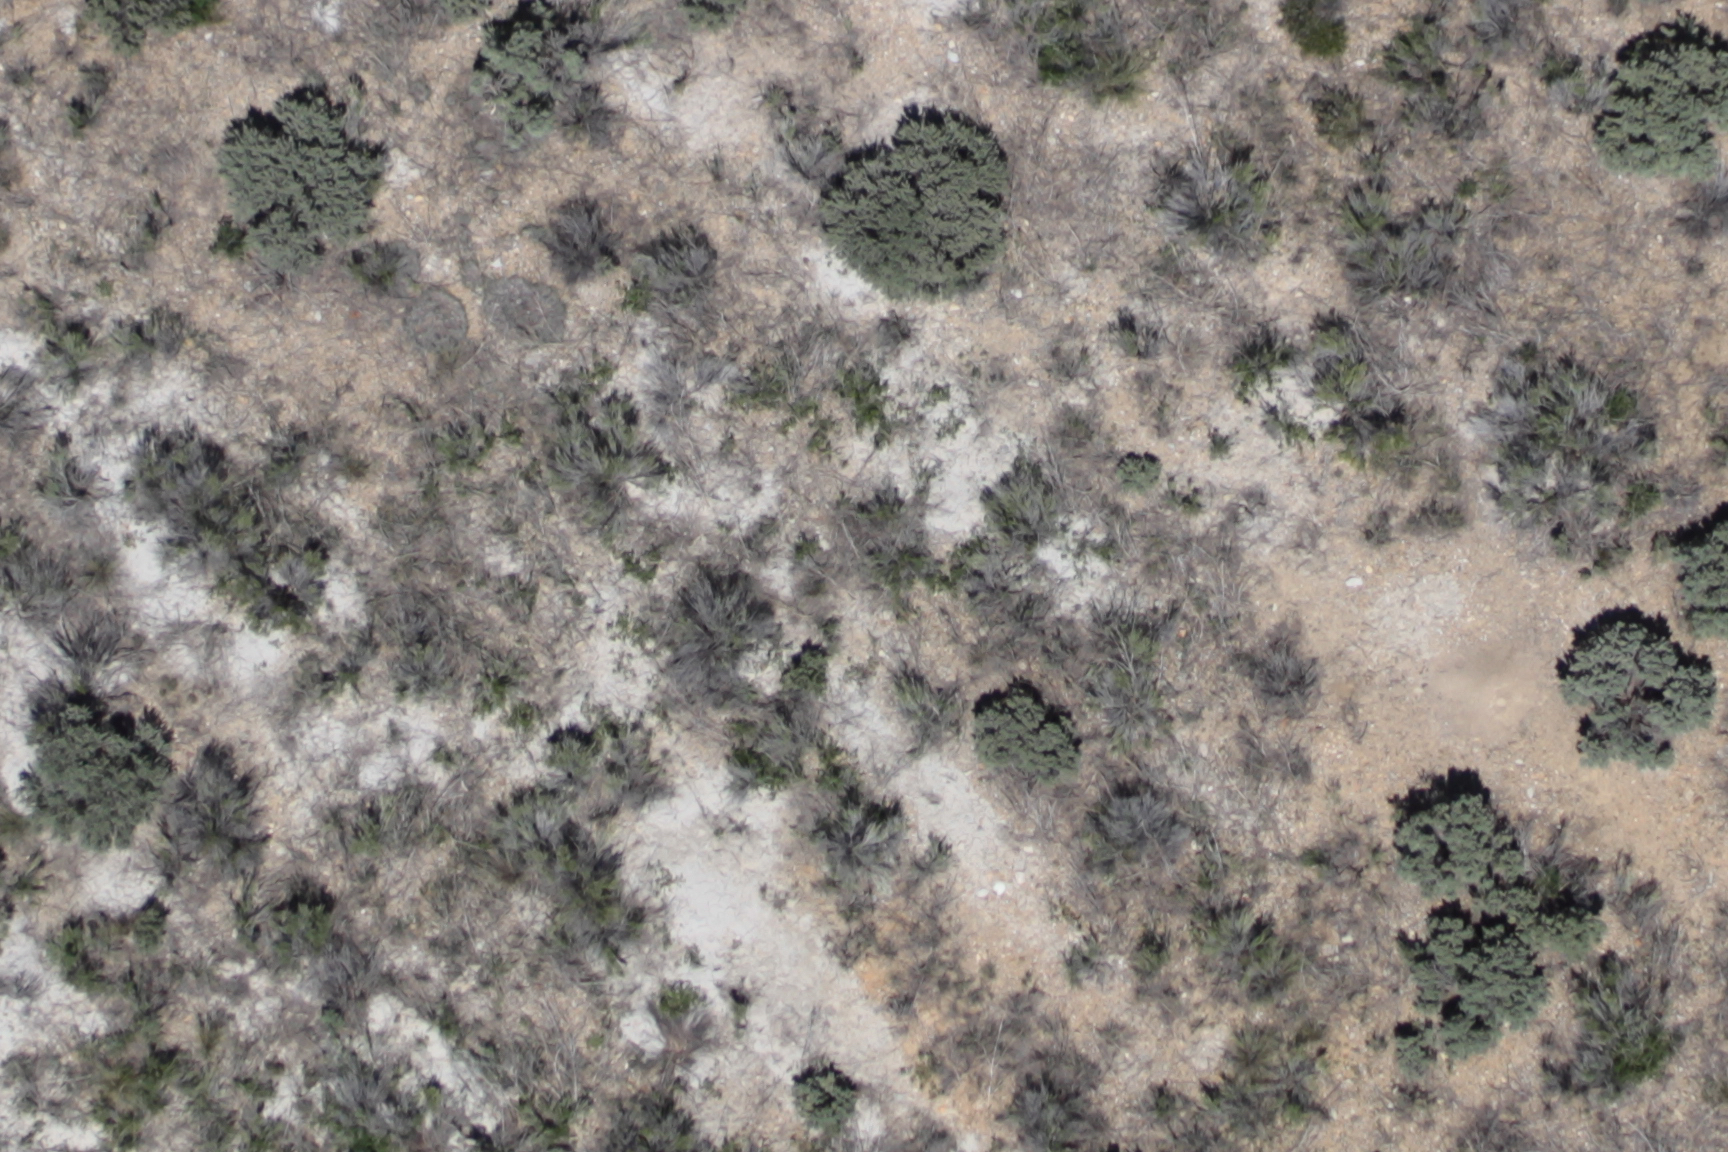burrow: (1410, 616, 1557, 746)
